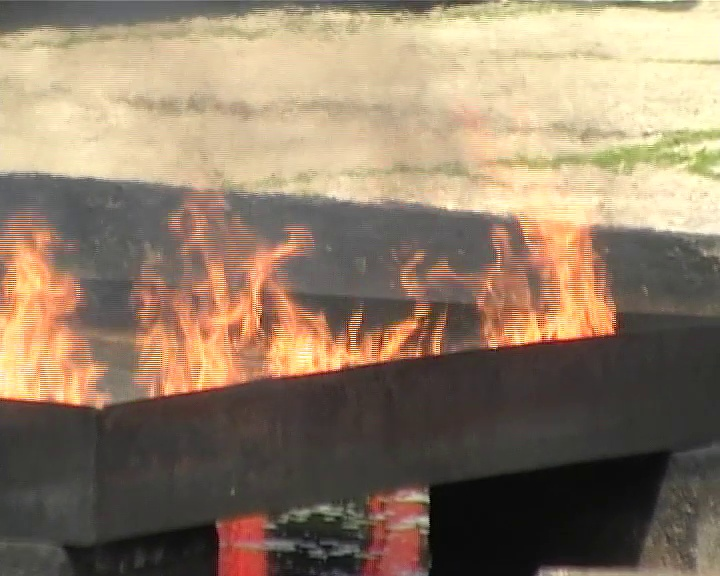fire: (132, 205, 449, 392), (480, 204, 612, 343), (1, 228, 90, 399)
